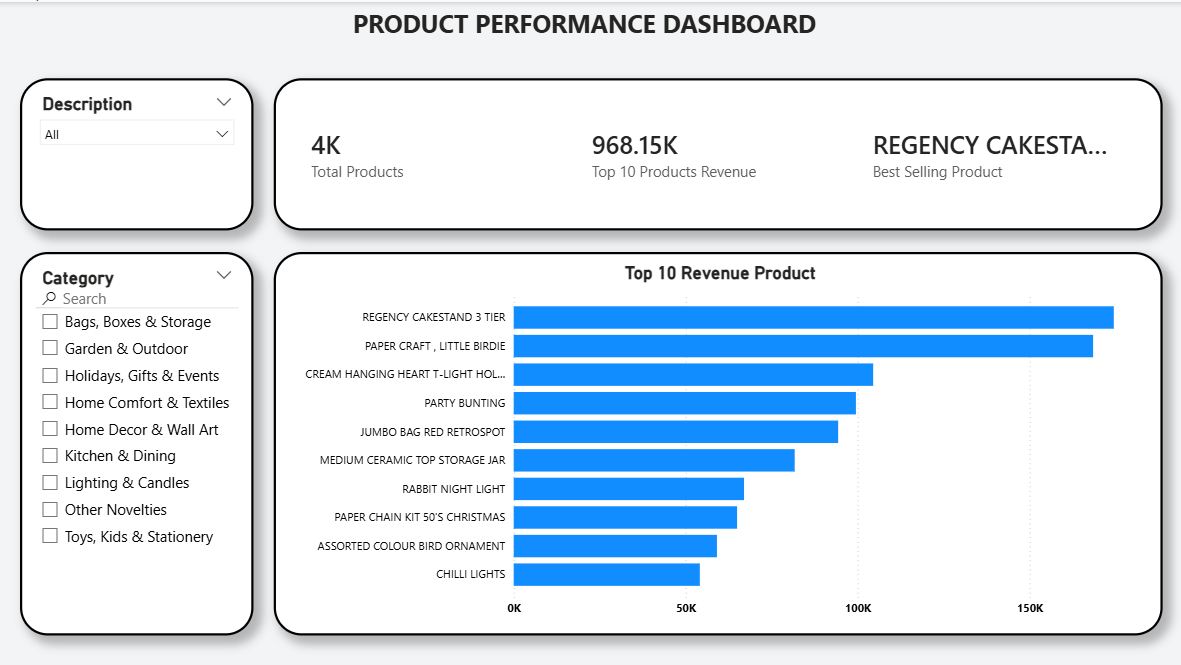

The page's visual inventory and layout, read from the dashboard file:
{"tool":"powerbi","page":{"name":"PRODUCT PERFORMANCE","canvas":[1280,720],"ordinal":1},"visuals":[{"type":"clusteredBarChart","title":"Top 10 Revenue Product","fields":{"Y":["public fact_orders.Total Revenue"],"Category":["public dim_product.description"]},"box":[296.4,270.7,962.2,415.5],"z":0},{"type":"slicer","fields":{"Values":["public dim_product.description"]},"box":[21.7,82.6,253.1,165.1],"z":1000},{"type":"cardVisual","fields":{"Data":["public fact_orders.Total Products","public fact_orders.Top 10 Products Revenue","public fact_orders.Best Selling Product"]},"box":[296.4,82.6,962.2,165.1],"z":2000},{"type":"textbox","box":[100.1,0,1065.1,56.8],"z":3000},{"type":"slicer","fields":{"Values":["public dim_product.Product_Category"]},"box":[21.7,270.7,253.1,415.5],"z":4000}]}

Visuals, with their boxes in screenshot pixels (x1, y1, x2, y2), scaled from the page's 1280x720 canvas onto the 1181x665 screenshot:
"Top 10 Revenue Product" clusteredBarChart: locate(273, 250, 1161, 634)
slicer - public dim_product.description: locate(20, 76, 254, 229)
cardVisual - public fact_orders.Total Products x public fact_orders.Top 10 Products Revenue: locate(273, 76, 1161, 229)
textbox: locate(92, 0, 1075, 52)
slicer - public dim_product.Product_Category: locate(20, 250, 254, 634)
